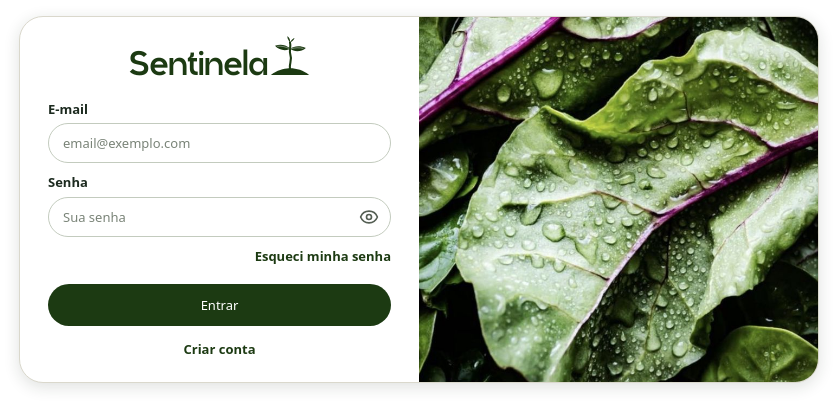
Test: Entrar › o botão do olho mostra e esconde a senha
The image size is (839, 407).
In the password field labelled "Senha": [220, 216] box [48,196,391,236], type "segredo"
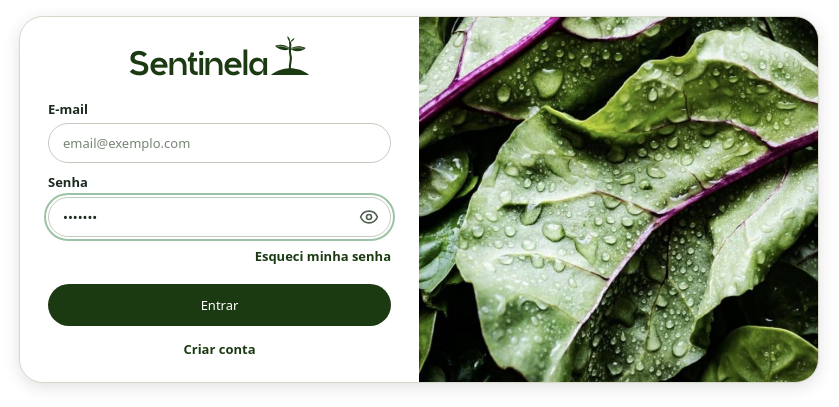
Click the button named "Mostrar senha": [369, 216] box [353,200,385,232]
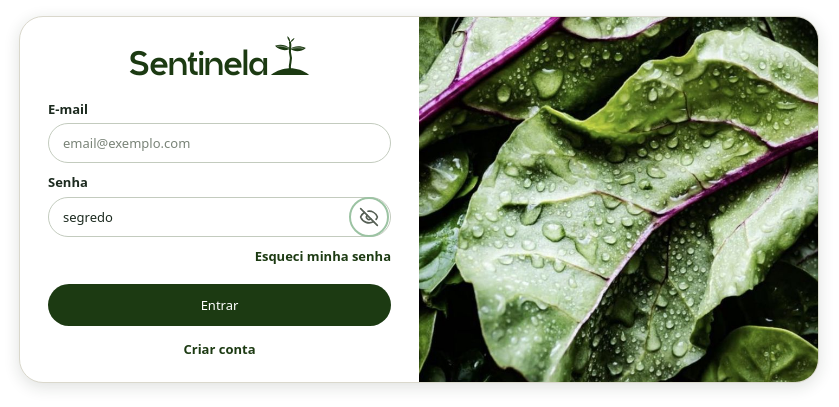
Expected: the field labelled "Senha" shows its text, [48,196,391,236]
Click the button named "Ocultar senha": [369, 216] box [353,200,385,232]
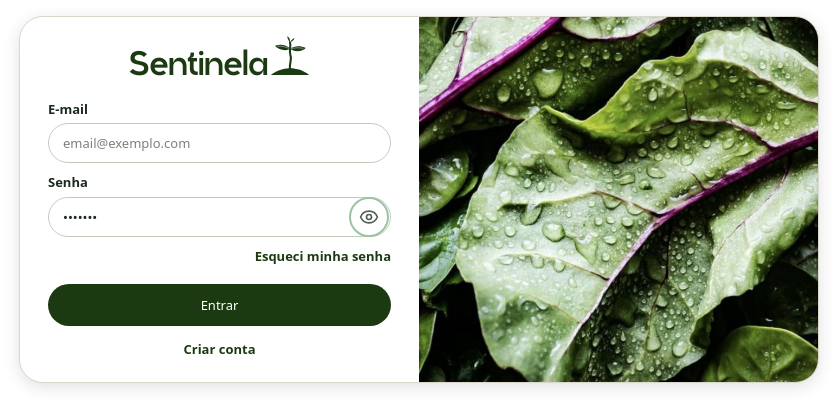
Expected: the password field labelled "Senha" hides its text, [48,196,391,236]
